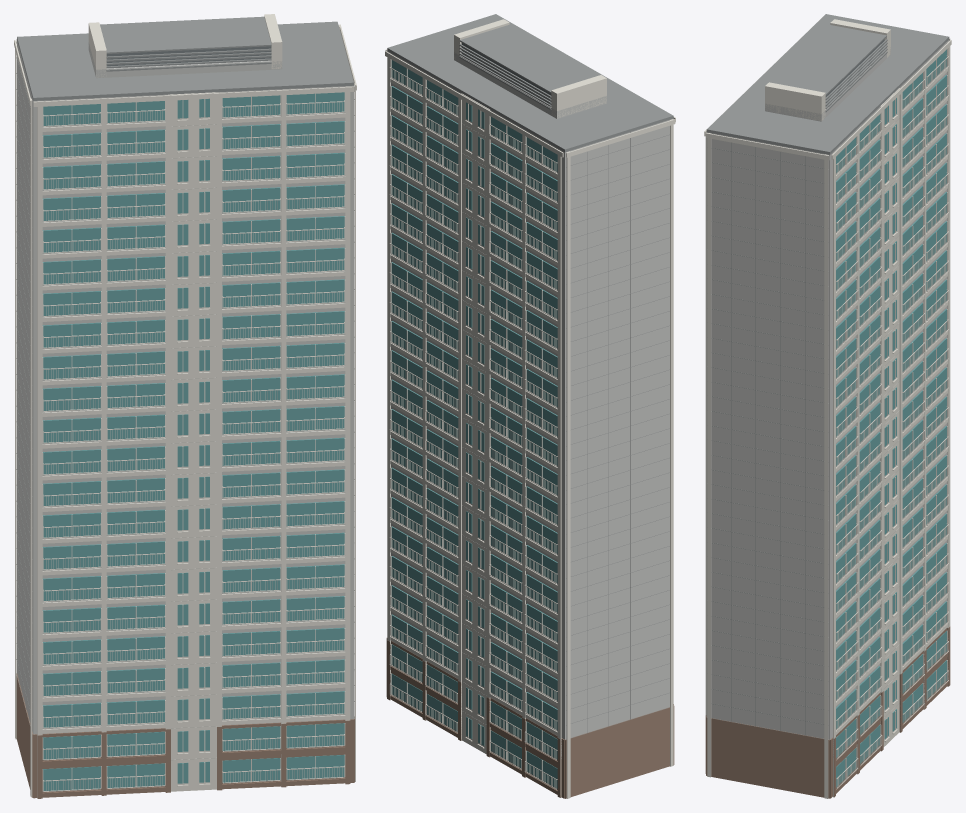
The model's file is bespoke-jamsil-els-160.glb.
The picture shows the model from 3 angles, left to right: view 1: azimuth 30°, elevation 25°; view 2: azimuth 150°, elevation 25°; view 3: azimuth 270°, elevation 25°; orthographic projection. The views are drawn at different scales.
Parts seen in each view (by area): view 1: Els160_editable_Els160_turquoise_balcony_glazing, Els160_white_exact_chunk_2, Els160_white_exact_chunk_1, Els160_editable_Els160_light_grey_solid_wall, Els160_editable_Els160_modest_grey_flat_roof_caps, Els160_editable_Els160_muted_ground_wall, Els160_editable_Els160_narrow_charcoal_service_strips; view 2: Els160_editable_Els160_light_grey_solid_wall, Els160_editable_Els160_turquoise_balcony_glazing, Els160_white_exact_chunk_0, Els160_white_exact_chunk_1, Els160_editable_Els160_modest_grey_flat_roof_caps, Els160_editable_Els160_muted_ground_wall, Els160_white_exact_chunk_2, Els160_editable_Els160_narrow_charcoal_service_strips; view 3: Els160_editable_Els160_light_grey_solid_wall, Els160_editable_Els160_turquoise_balcony_glazing, Els160_white_exact_chunk_0, Els160_editable_Els160_modest_grey_flat_roof_caps, Els160_white_exact_chunk_1, Els160_white_exact_chunk_2, Els160_editable_Els160_muted_ground_wall.
Boxes of the visible parts, <box> form: Els160_editable_Els160_turquoise_balcony_glazing: <box>42,92,344,790</box>; Els160_white_exact_chunk_2: <box>33,14,356,798</box>; Els160_white_exact_chunk_1: <box>14,39,219,797</box>; Els160_editable_Els160_light_grey_solid_wall: <box>17,40,353,760</box>; Els160_editable_Els160_modest_grey_flat_roof_caps: <box>16,16,354,725</box>; Els160_editable_Els160_muted_ground_wall: <box>16,673,354,798</box>; Els160_editable_Els160_narrow_charcoal_service_strips: <box>106,46,271,66</box>; Els160_editable_Els160_light_grey_solid_wall: <box>387,51,673,739</box>; Els160_editable_Els160_turquoise_balcony_glazing: <box>391,60,557,788</box>; Els160_white_exact_chunk_0: <box>387,52,522,769</box>; Els160_white_exact_chunk_1: <box>385,51,675,798</box>; Els160_editable_Els160_modest_grey_flat_roof_caps: <box>387,14,673,739</box>; Els160_editable_Els160_muted_ground_wall: <box>386,638,674,798</box>; Els160_white_exact_chunk_2: <box>385,19,675,122</box>; Els160_editable_Els160_narrow_charcoal_service_strips: <box>461,43,551,104</box>; Els160_editable_Els160_light_grey_solid_wall: <box>706,40,949,739</box>; Els160_editable_Els160_turquoise_balcony_glazing: <box>836,49,946,787</box>; Els160_white_exact_chunk_0: <box>833,88,924,797</box>; Els160_editable_Els160_modest_grey_flat_roof_caps: <box>706,14,949,738</box>; Els160_white_exact_chunk_1: <box>831,38,951,709</box>; Els160_white_exact_chunk_2: <box>704,17,890,798</box>; Els160_editable_Els160_muted_ground_wall: <box>705,626,950,798</box>.
Bounding box in the file's own units: 26.87 × 59.95 × 20.04.
